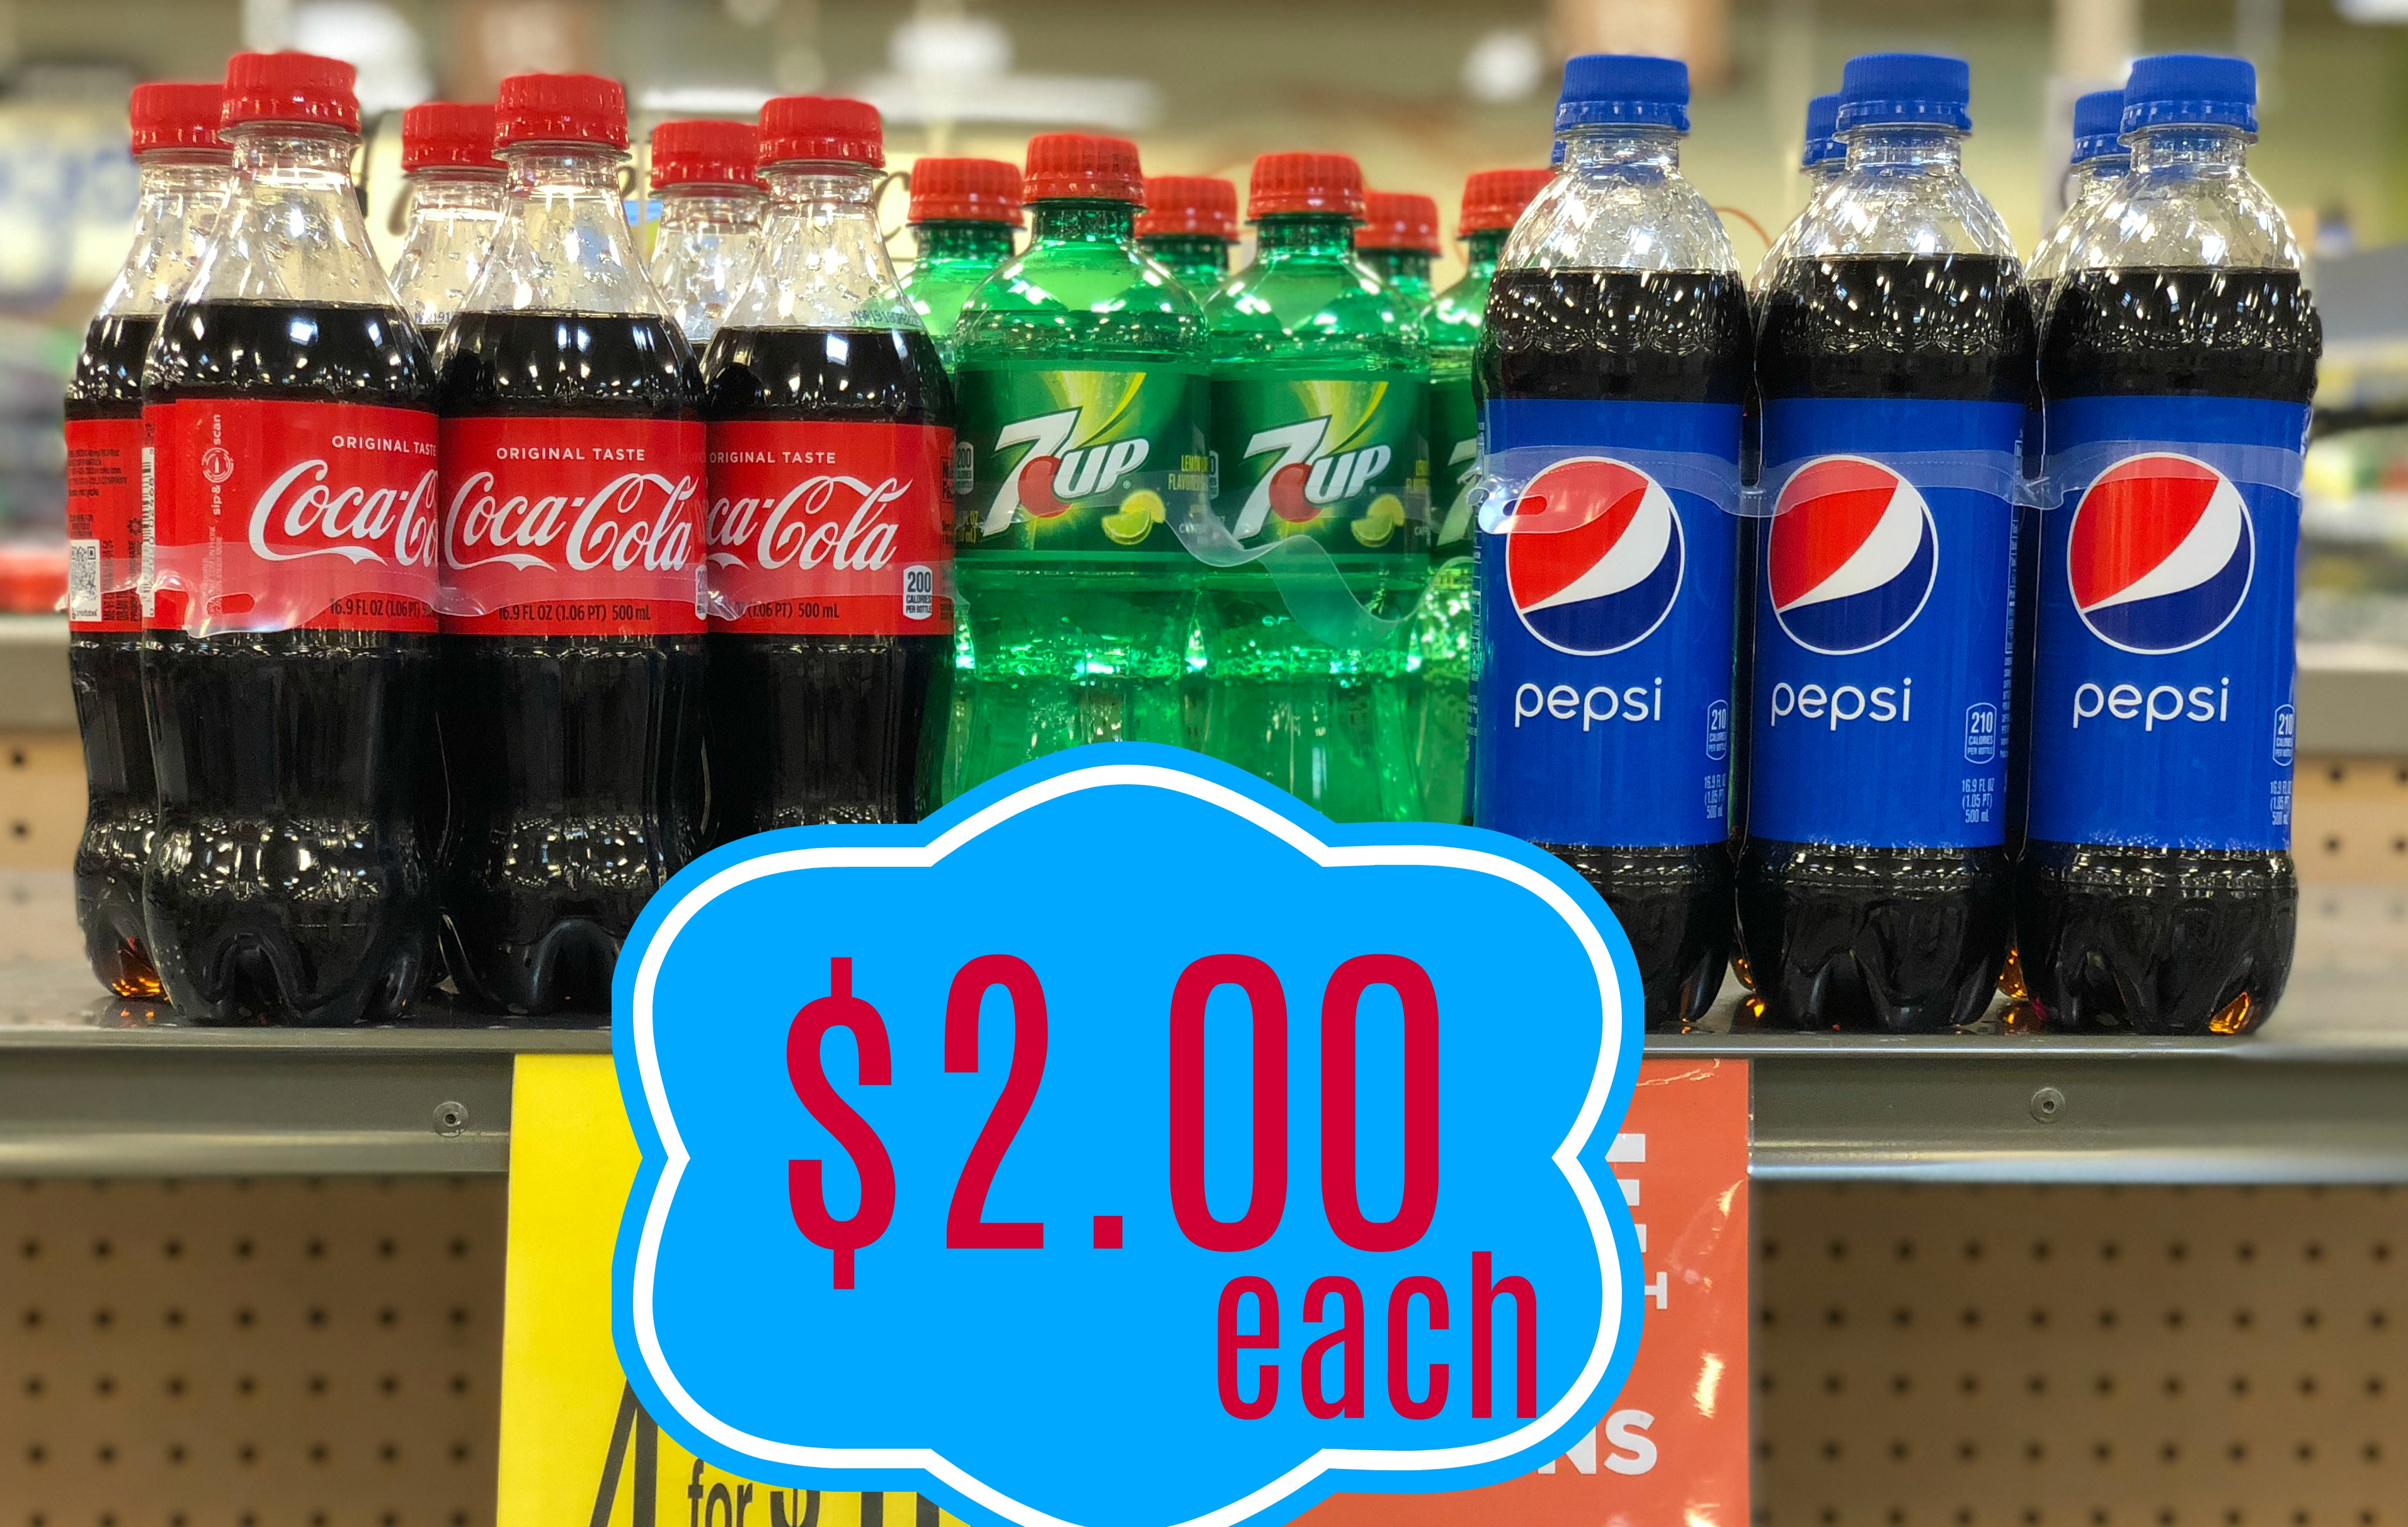pepsi: (2062, 442, 2254, 655), (2062, 448, 2254, 655), (1504, 458, 1685, 655), (1757, 456, 1941, 648), (1764, 456, 1941, 648), (1516, 458, 1685, 655), (1757, 470, 1941, 648)
